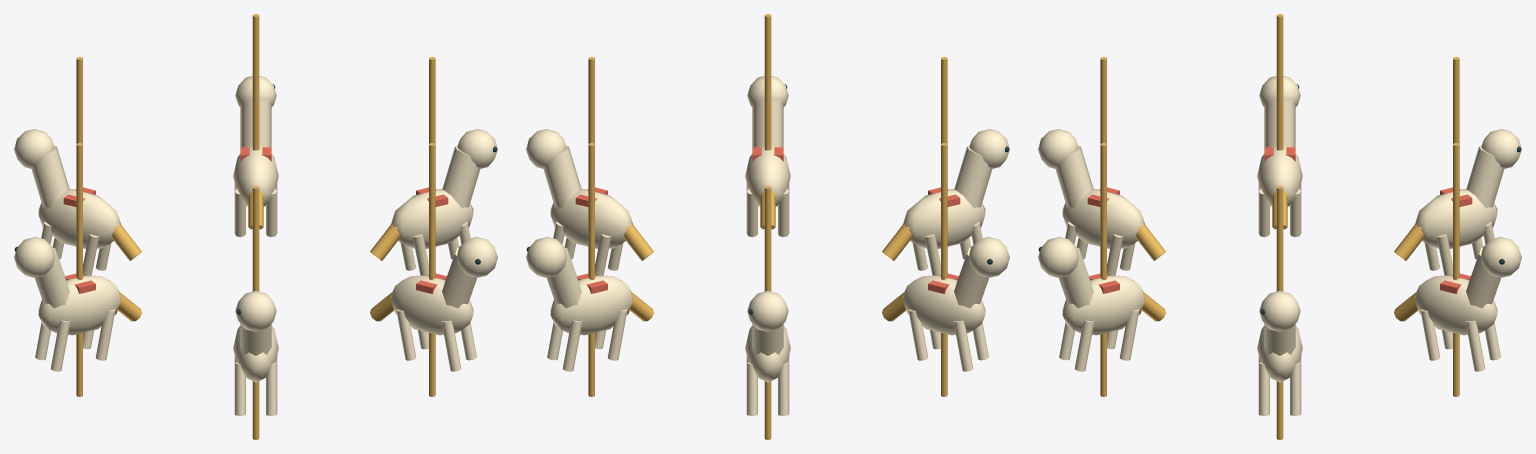
The model's file is carousel_rotor.glb.
The picture shows the model from 3 angles, left to right: view 1: azimuth 30°, elevation 25°; view 2: azimuth 150°, elevation 25°; view 3: azimuth 270°, elevation 25°; orthographic projection.
Visible parts, largest first — view 1: carousel_rotor; view 2: carousel_rotor; view 3: carousel_rotor.
Boxes of the visible parts, x1,y1,x2,y2 form: carousel_rotor: [14, 14, 497, 439]; carousel_rotor: [526, 14, 1009, 439]; carousel_rotor: [1038, 14, 1521, 439].
Bounding box in the file's own units: 6.38 × 3.2 × 5.59.
